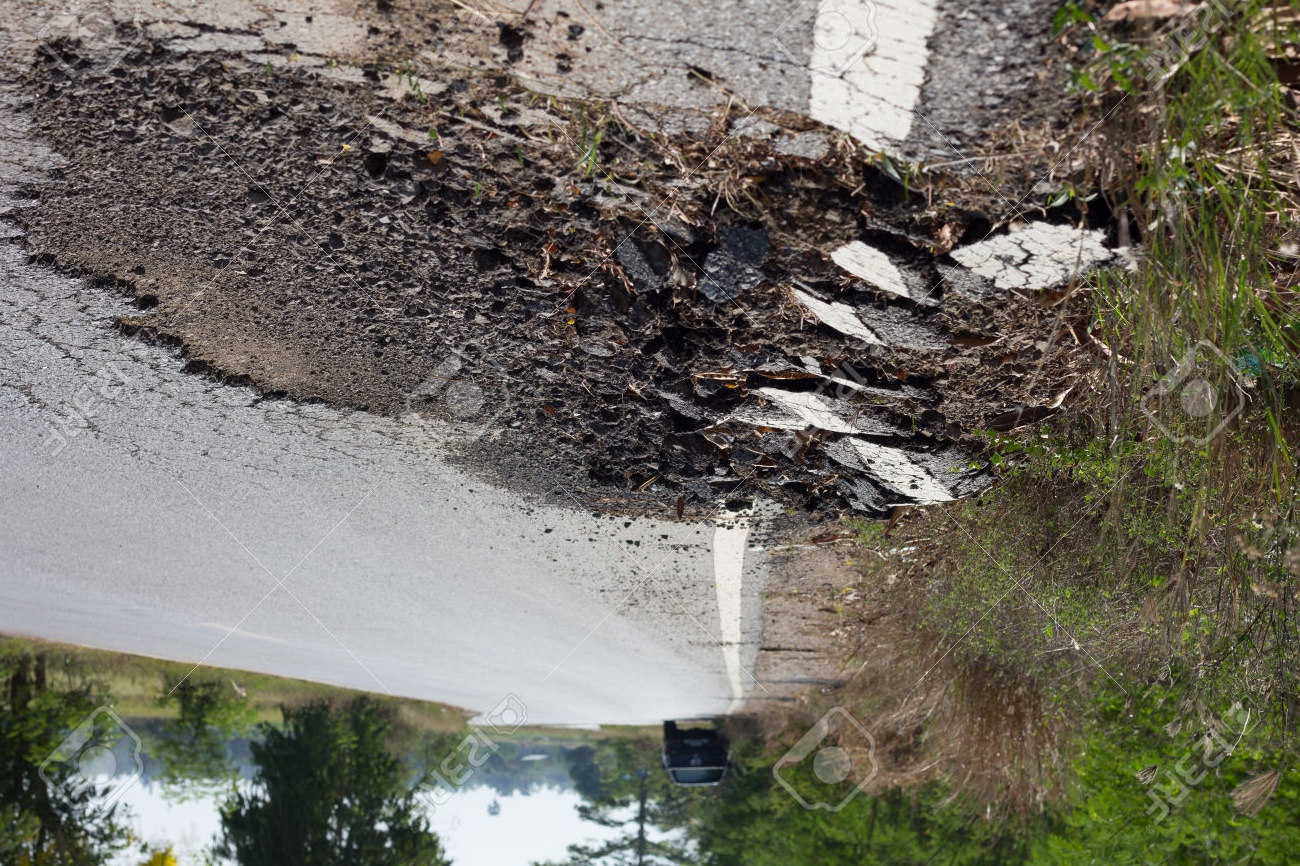pothole: (0, 22, 570, 430)
